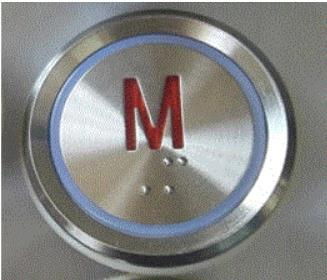Braille: (128, 157, 150, 196), (164, 157, 187, 194)
